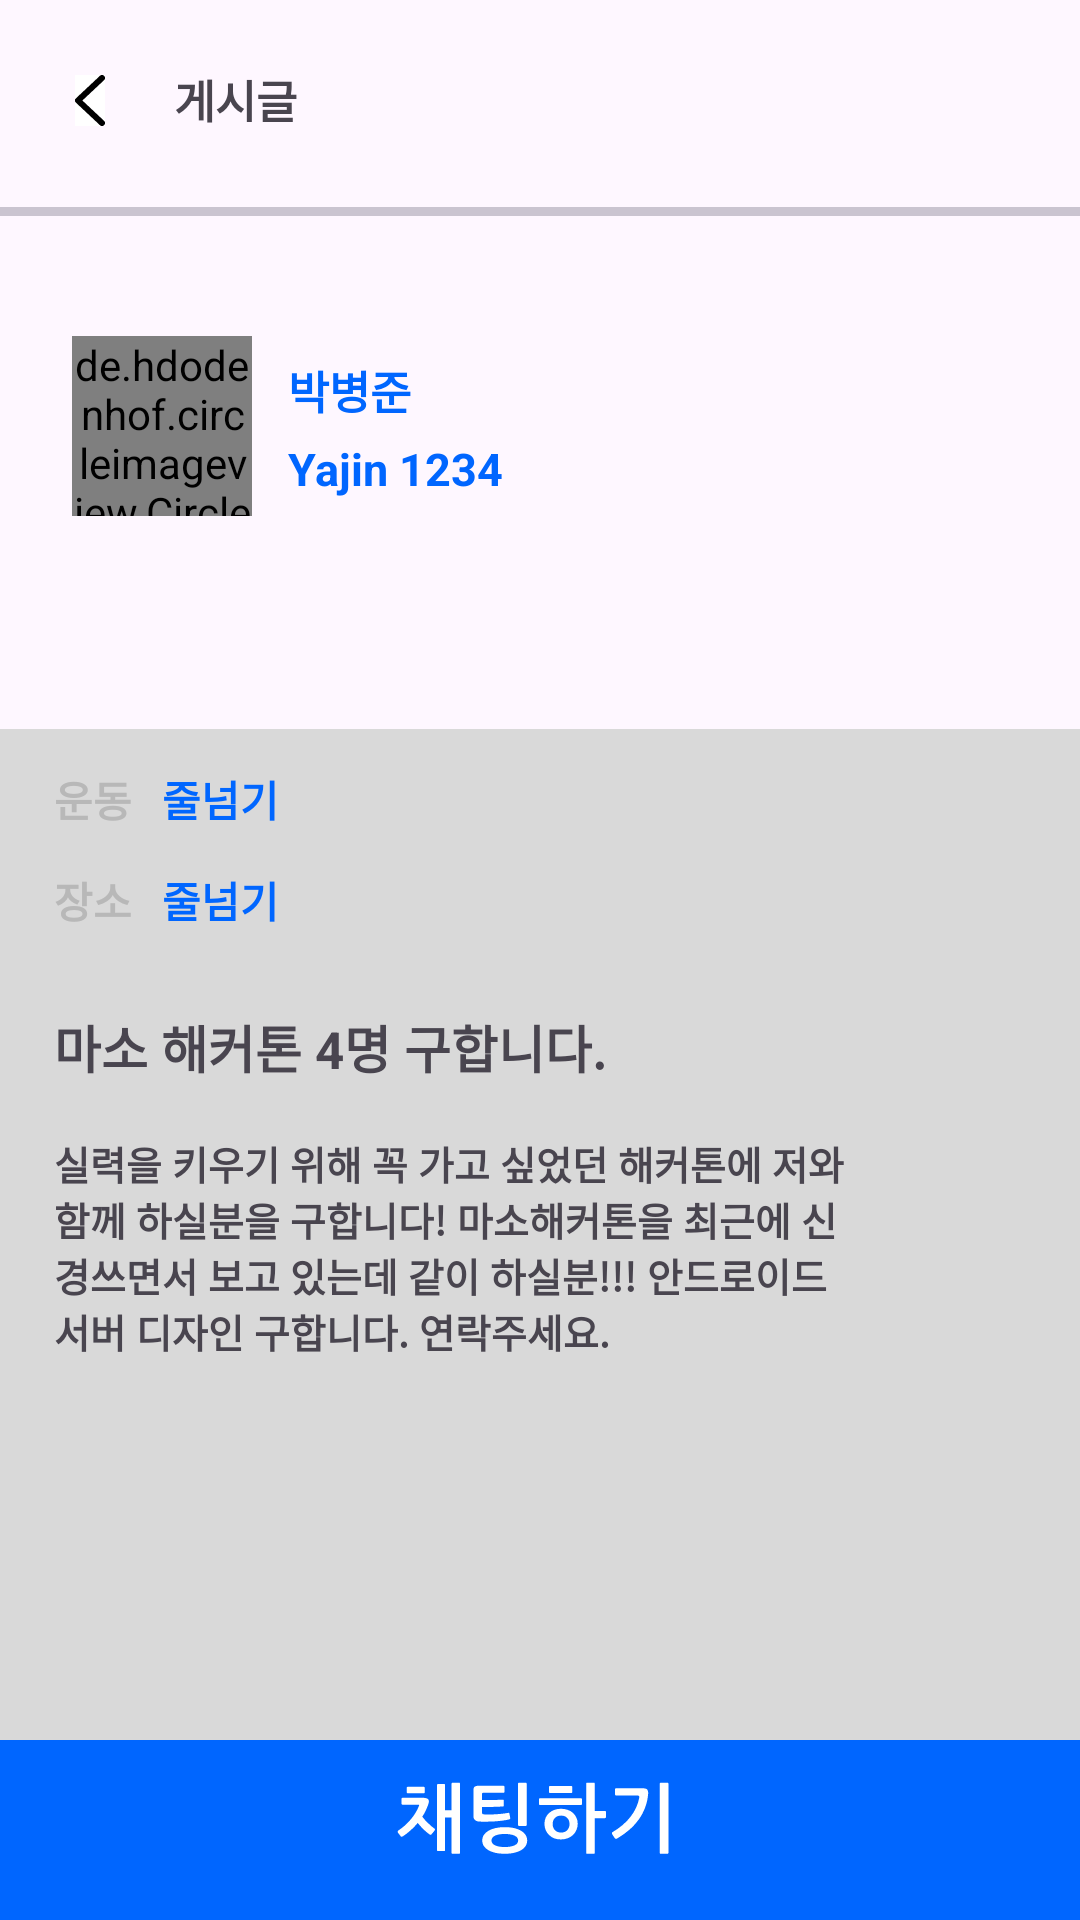

Where icons sit on this 1080*1920 app screen, as box(x1, y1, x2, y2):
back: box(75, 75, 105, 126)
